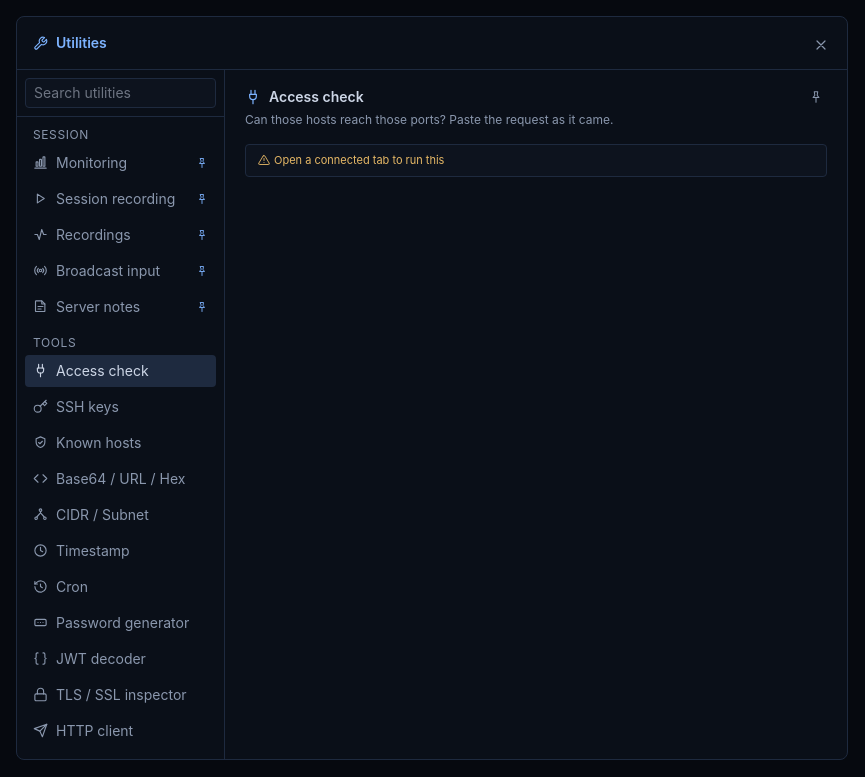
UtilitiesPanel — the session actions › the search finds an action, and the group heads only what it holds
// "broadcast" is also a word of the subnet calculator: both groups answer.
Type "broadcast" into the search field with test id "utilities-search".
click(120, 93); type("broadcast")  # box top-left (25, 78), bottom-right (216, 108)
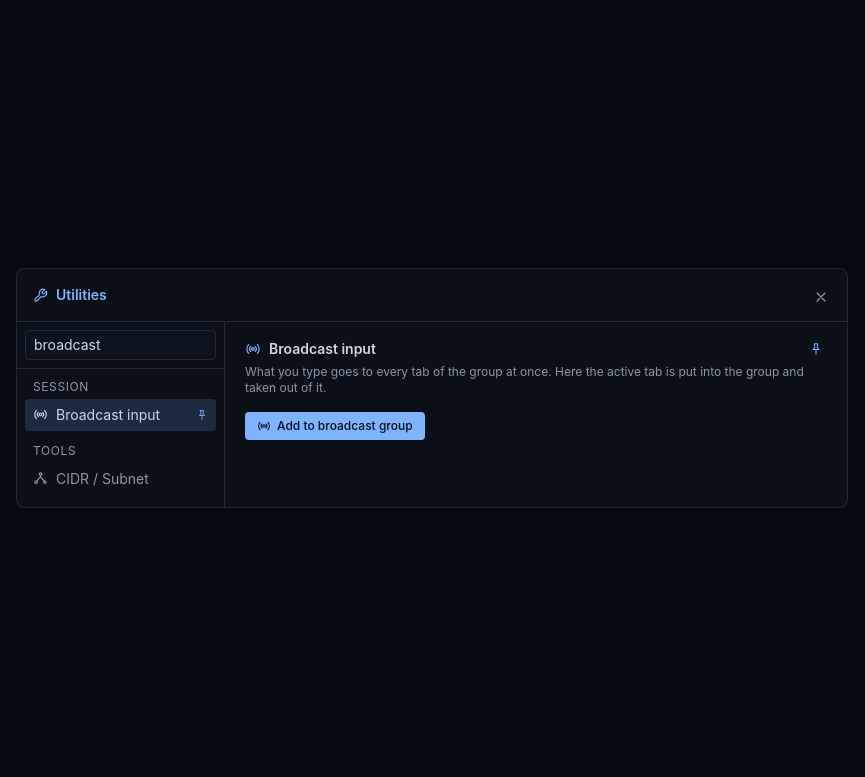
Expected: the text "Tools" is shown, top-left (33, 443), bottom-right (76, 458)
Replace the text in the search field with test id "utilities-search" with "синхронный" at (120, 345), box top-left (25, 330), bottom-right (216, 360)
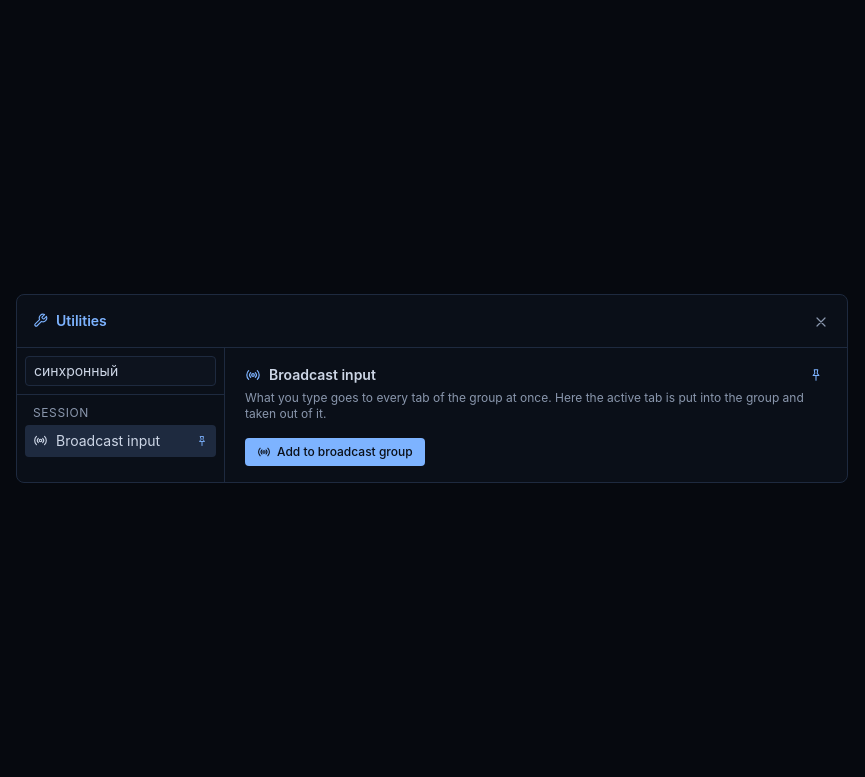
Expected: the text with test id "utilities-group-tools" is gone
Replace the text in the search field with test id "utilities-search" with "cidr" at (120, 370), box top-left (25, 356), bottom-right (216, 386)
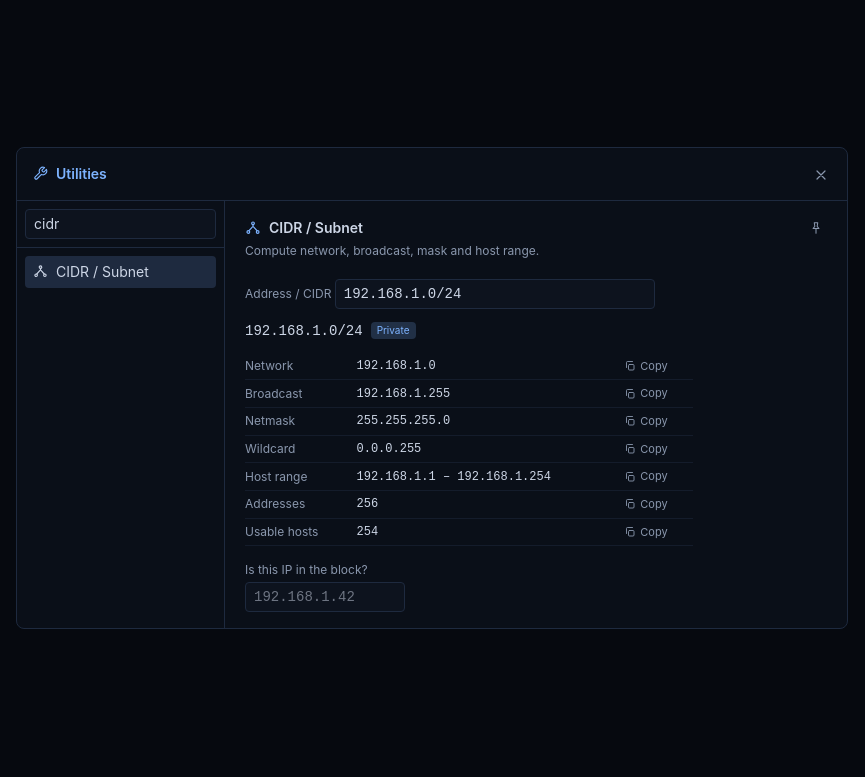
Expected: the text with test id "utilities-group-session" is gone
Expected: the element with test id "session-action" is gone
